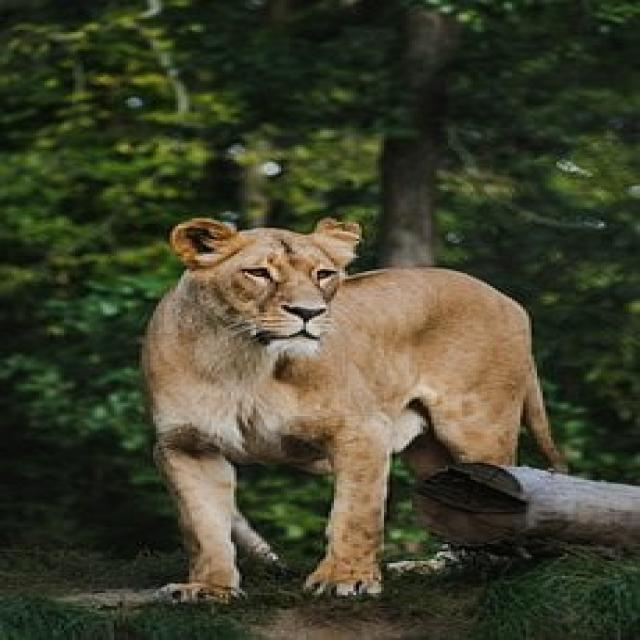Lion: (142, 218, 565, 599)
